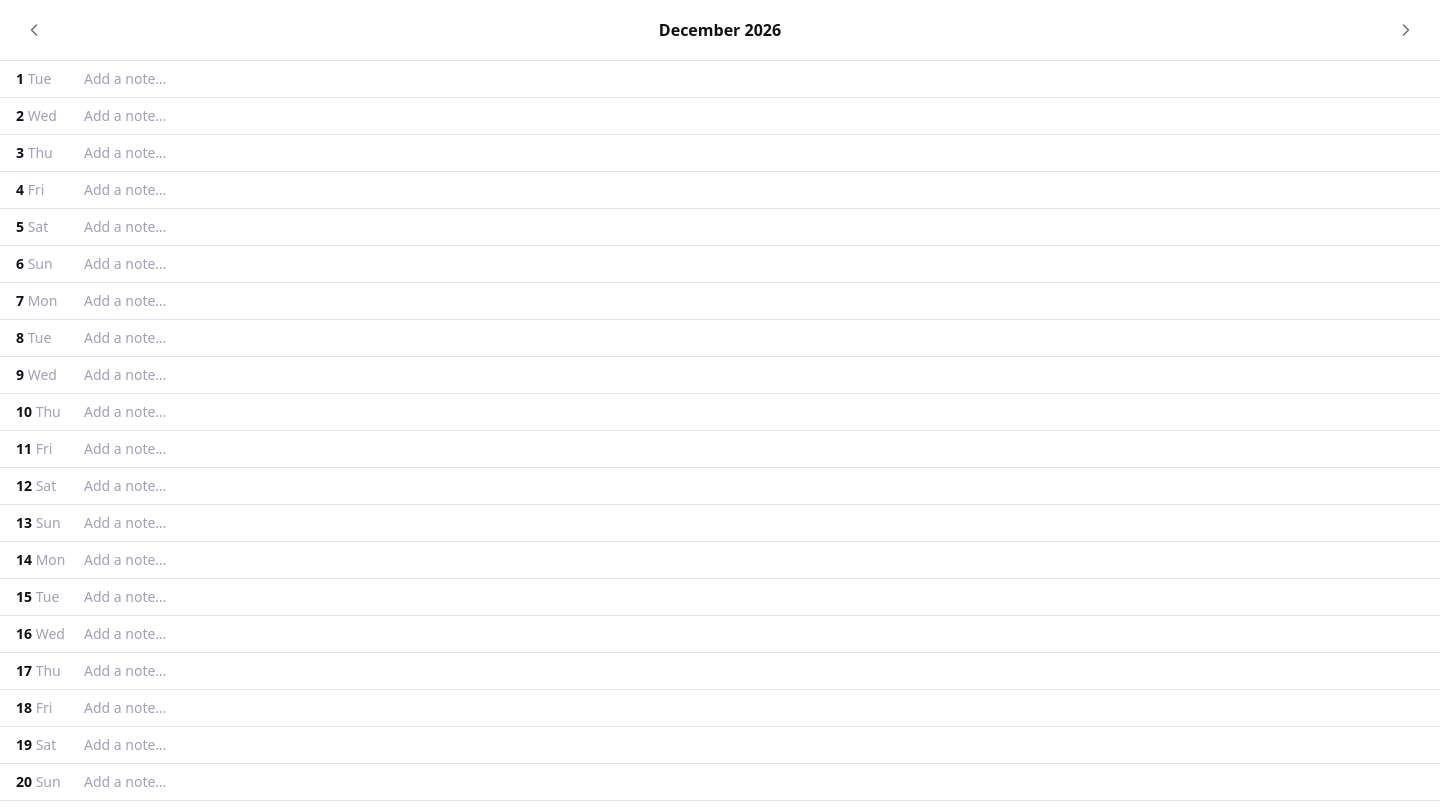
Scenario: TimelineView › wraps to January of next year when navigating forward from December
Step 1. Click the button named "next" → (1406, 30), box [1388,12,1424,48]
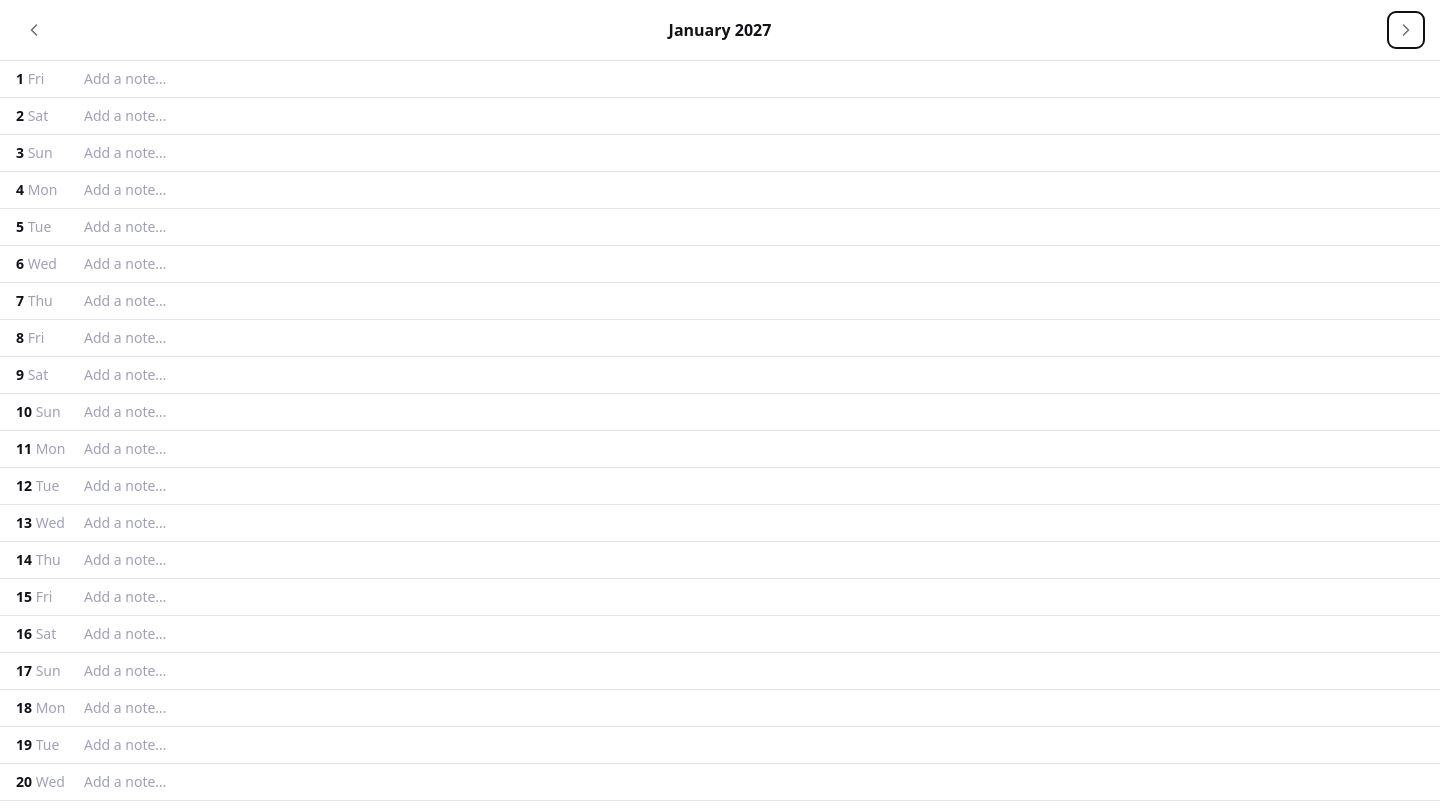
Check: the text "January 2027" is shown, box [669,18,771,42]
